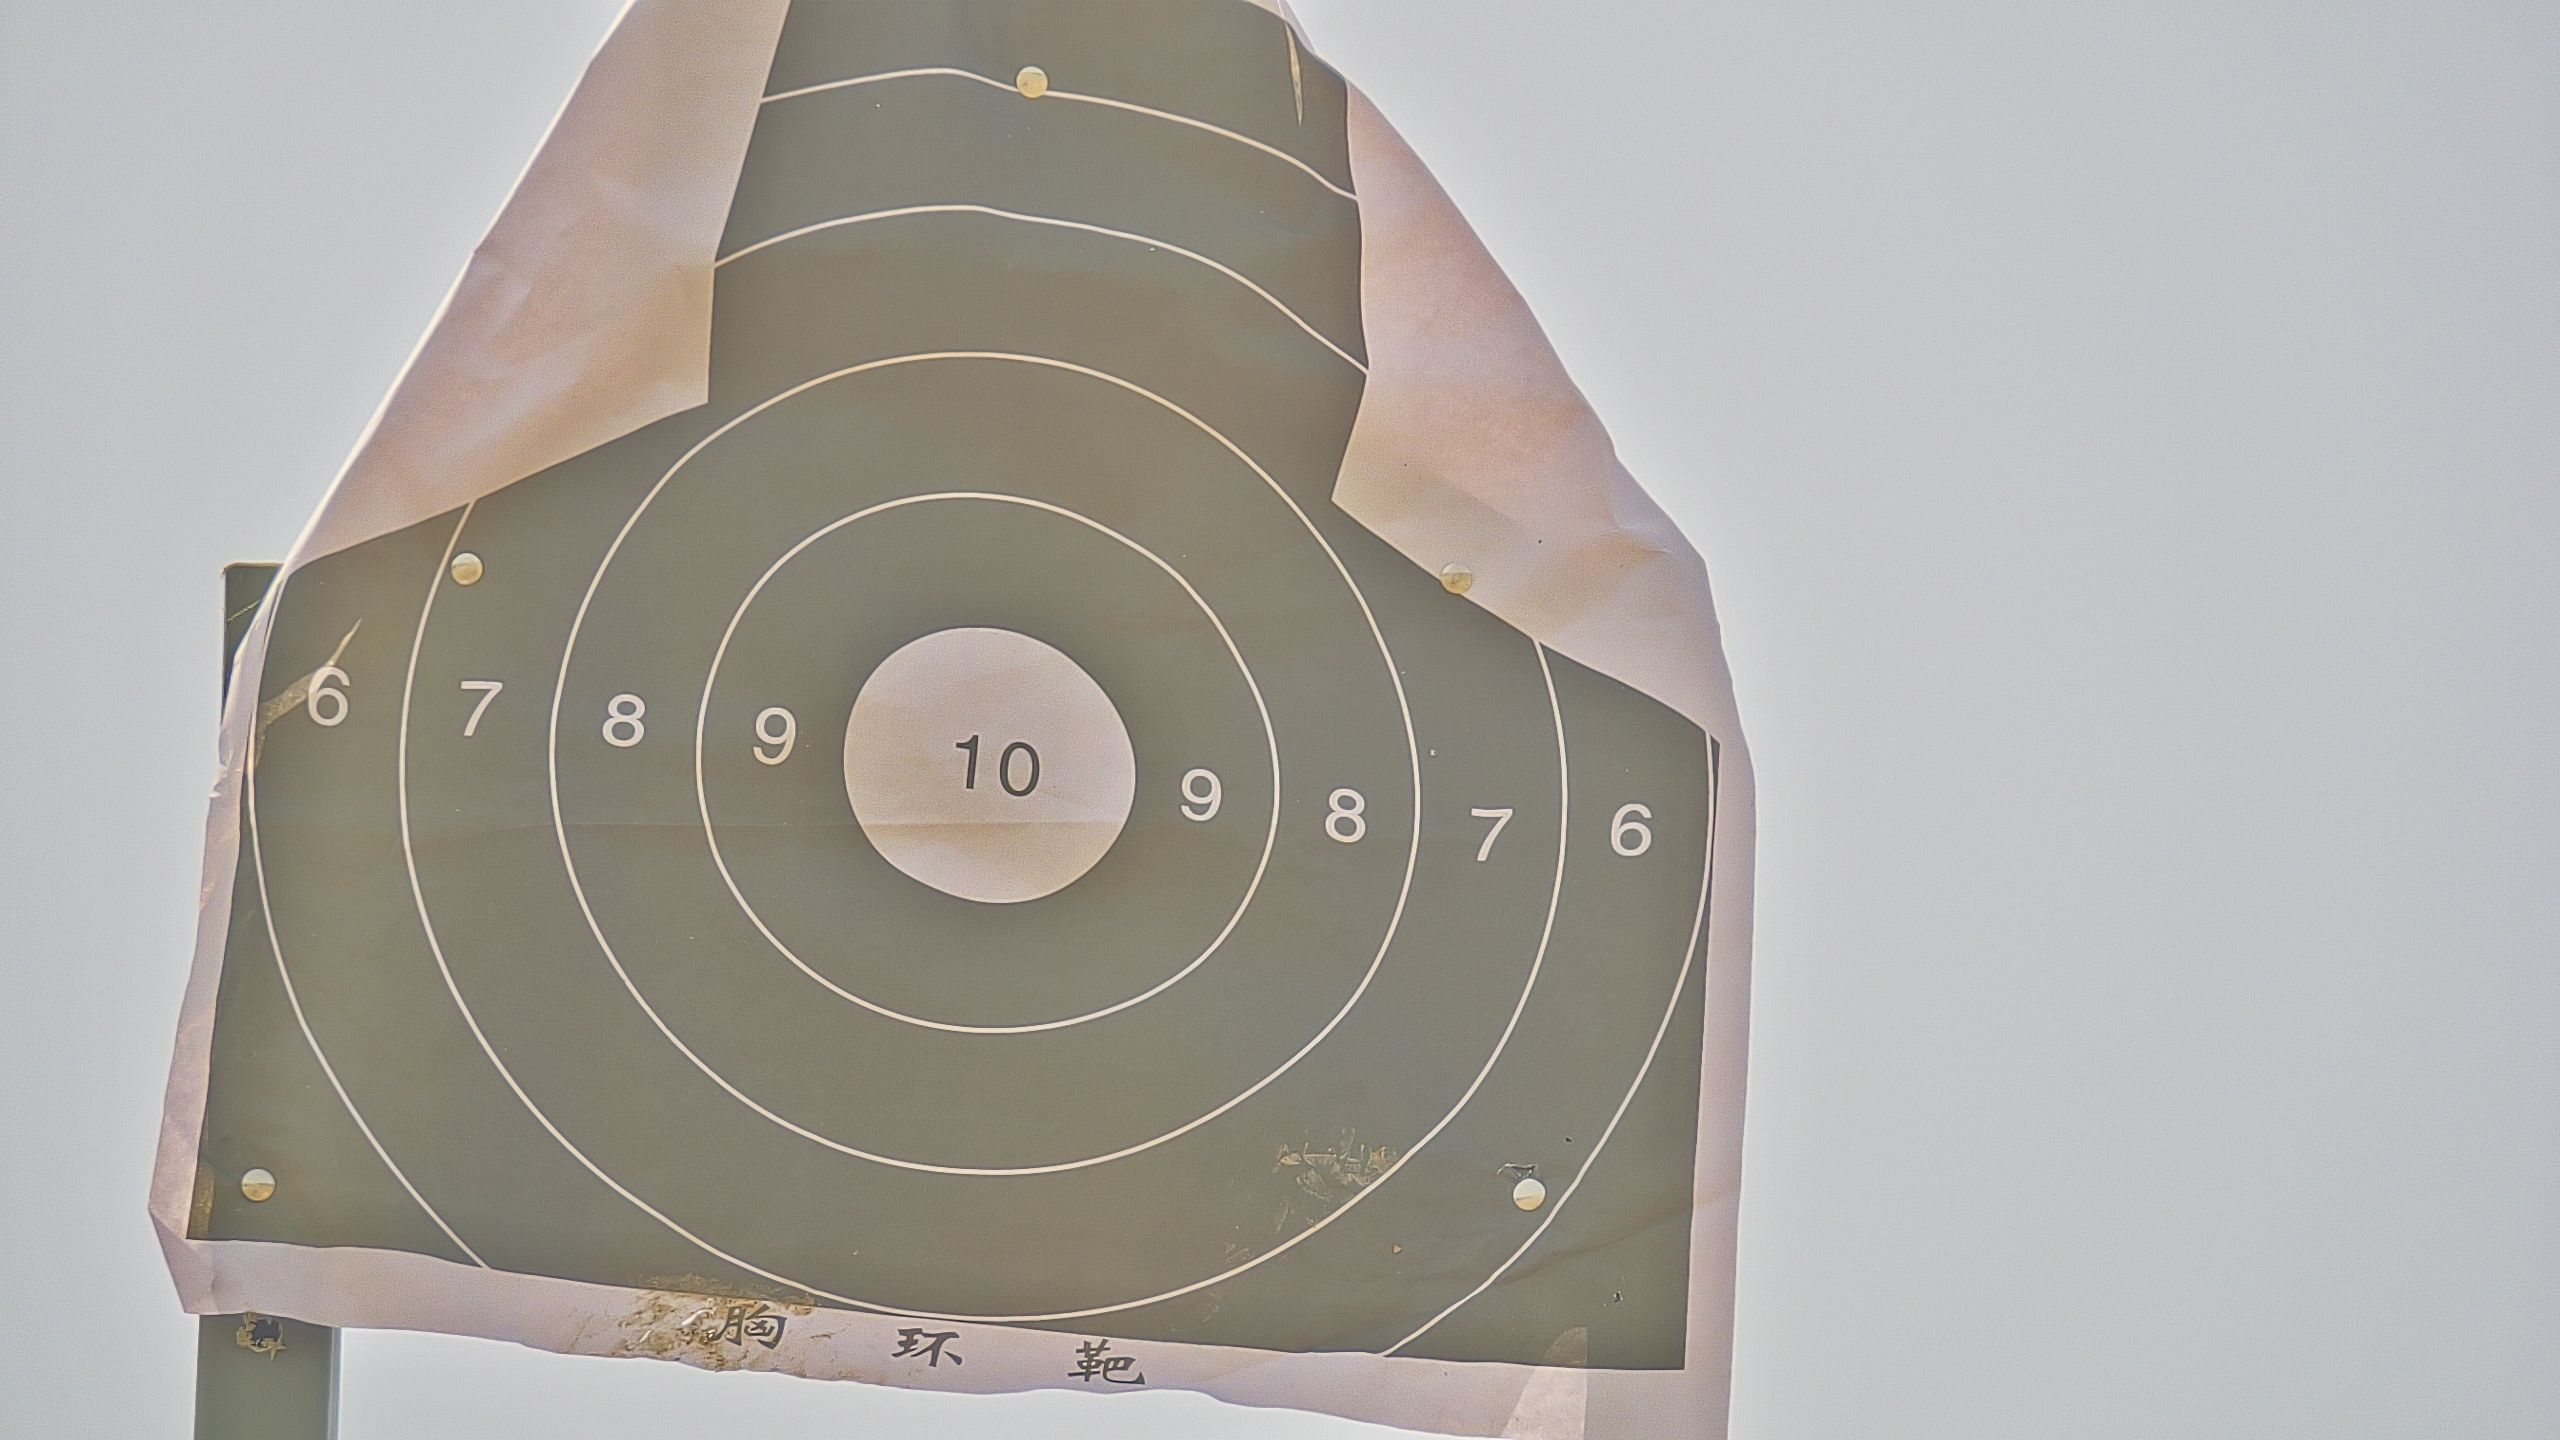kernel: (990, 767, 993, 772)
target: (172, 2, 1725, 1401)
ten: (842, 622, 1139, 905)
